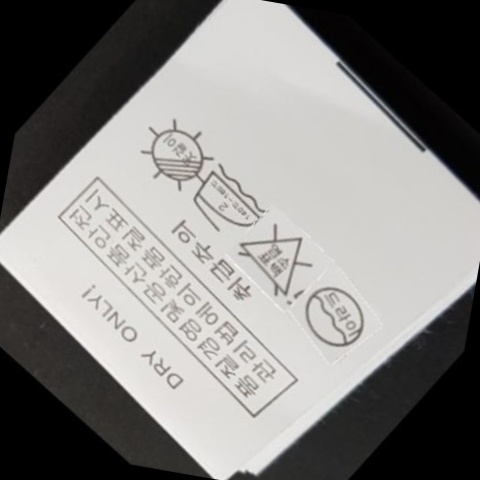dry_clean: (300, 281, 370, 354)
iron_medium: (190, 164, 266, 237)
line_dry_in_shade: (139, 116, 216, 196)
non_chlorine_bleach: (237, 213, 323, 301)
